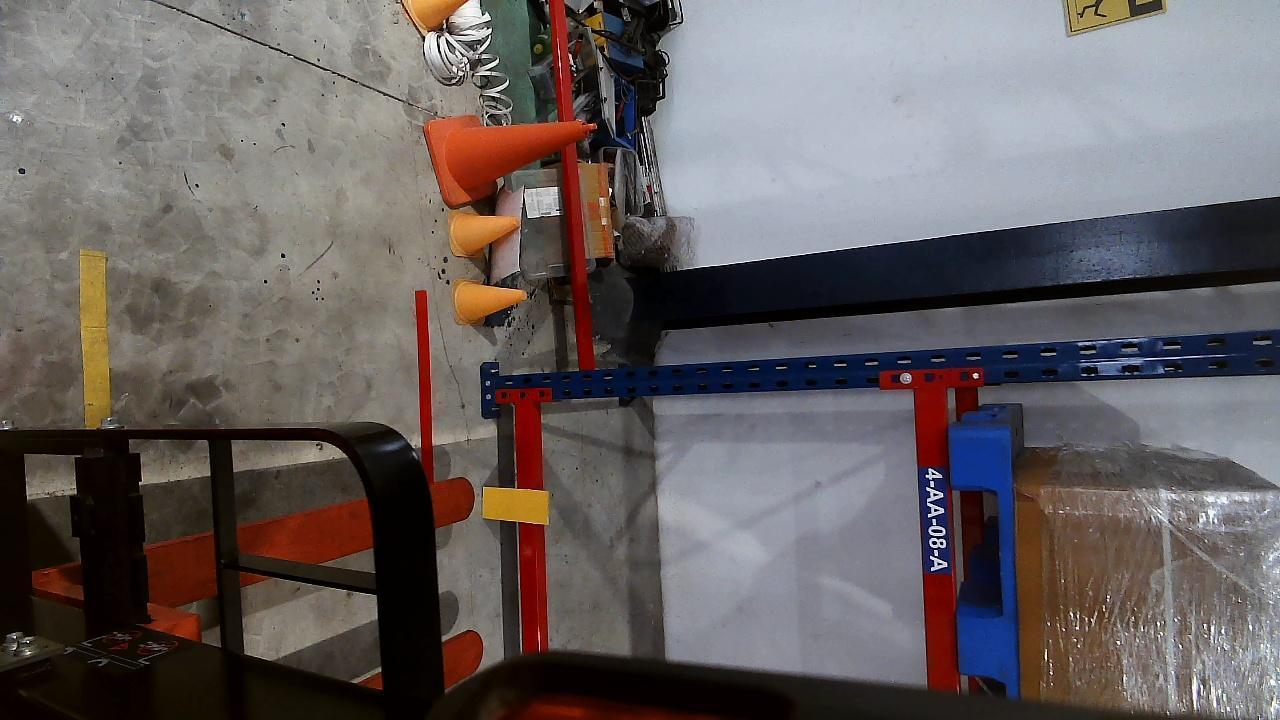red_line: (413, 289, 435, 475)
yellow_line: (78, 249, 111, 427)
